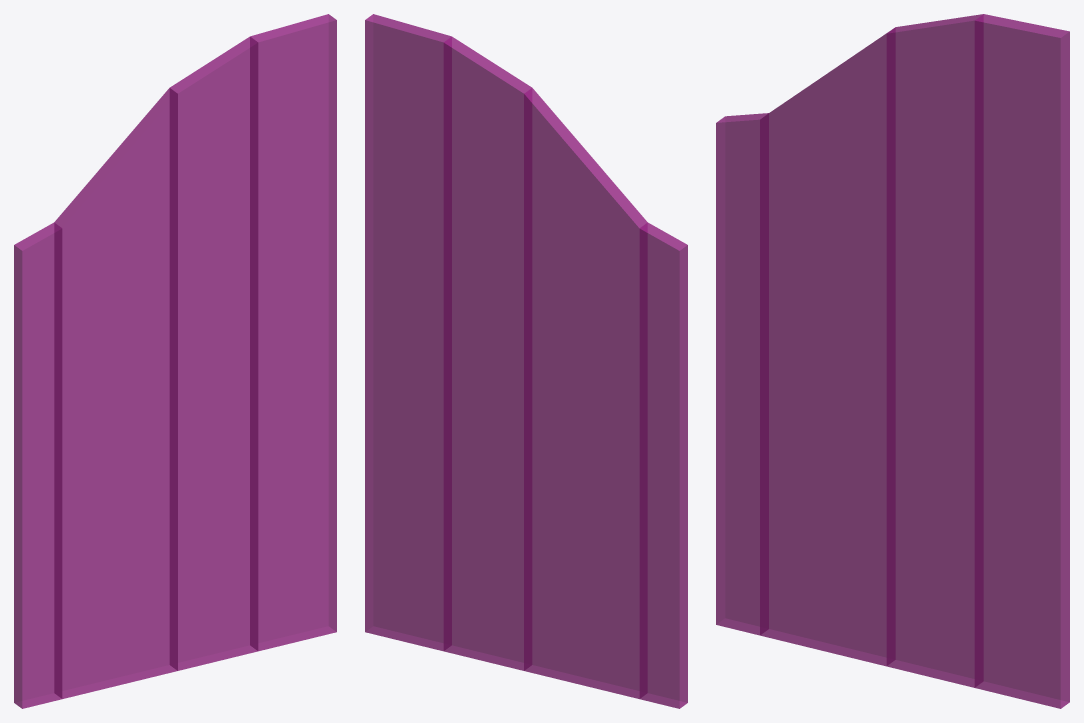
Rendered from SM_Bld_Villa_Fence_Gate_01_Door_01_Collision.fbx.
3 renders of one model, left to right at view 1: azimuth 30°, elevation 25°; view 2: azimuth 150°, elevation 25°; view 3: azimuth 330°, elevation 25°, orthographic. The views are drawn at different scales.
Visible parts, largest first — view 1: SM_Bld_Villa_Fence_Gate_01_Door_01_Collision; view 2: SM_Bld_Villa_Fence_Gate_01_Door_01_Collision; view 3: SM_Bld_Villa_Fence_Gate_01_Door_01_Collision.
Boxes of the visible parts, bbox=[...] form: SM_Bld_Villa_Fence_Gate_01_Door_01_Collision: bbox=[14, 14, 336, 708]; SM_Bld_Villa_Fence_Gate_01_Door_01_Collision: bbox=[365, 14, 687, 708]; SM_Bld_Villa_Fence_Gate_01_Door_01_Collision: bbox=[716, 14, 1069, 708].
Bounding box in the file's own units: 193 × 359 × 8.82.
